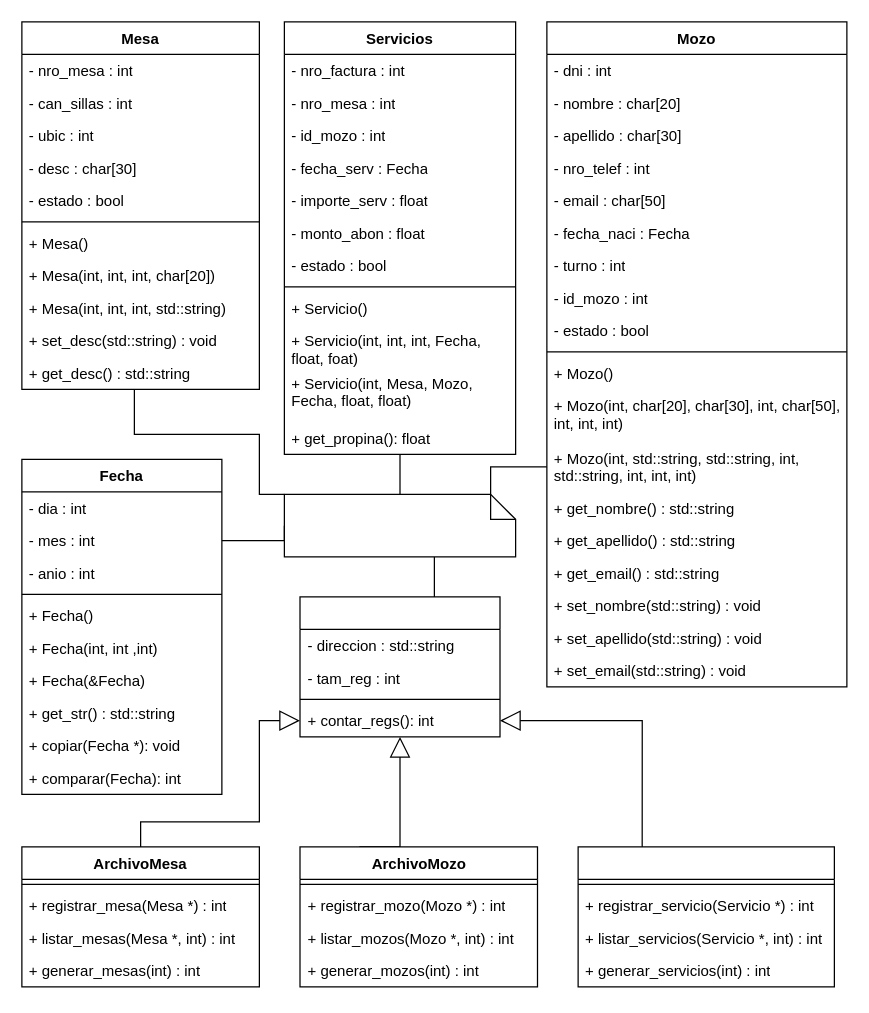
The diagram is 869 pixels wide and 1013 high, and some of its shapes have lost their labels. The shapes that lost their labels are listed below. From the top down, each one's box as (x1, y1, x2, y2) in pixels, then its label:
(283, 493, 516, 557): getters y setters genéricos omitidos
(299, 596, 500, 737): Archivo
(577, 846, 834, 987): ArchivoServicio
